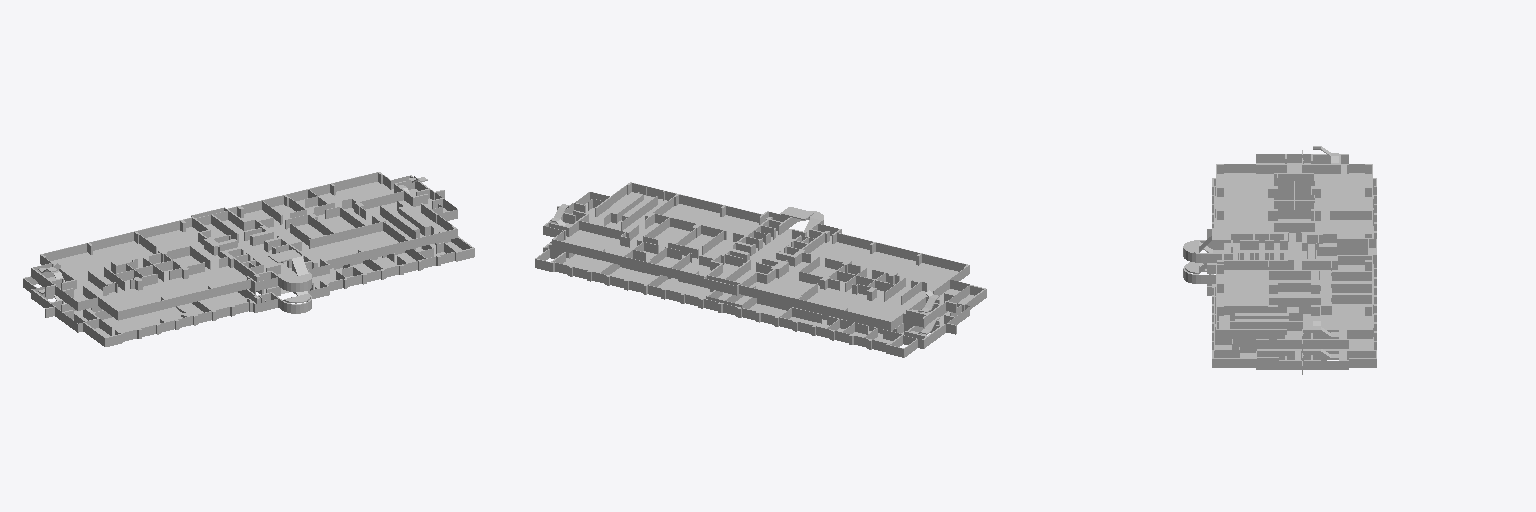
The model's file is terceiro_consertado_escada_Central.obj.
The picture shows the model from 3 angles: view 1: azimuth 30°, elevation 25°; view 2: azimuth 150°, elevation 25°; view 3: azimuth 270°, elevation 25°; orthographic projection.
Bounding box in the file's own units: 64.28 × 6.66 × 27.02.